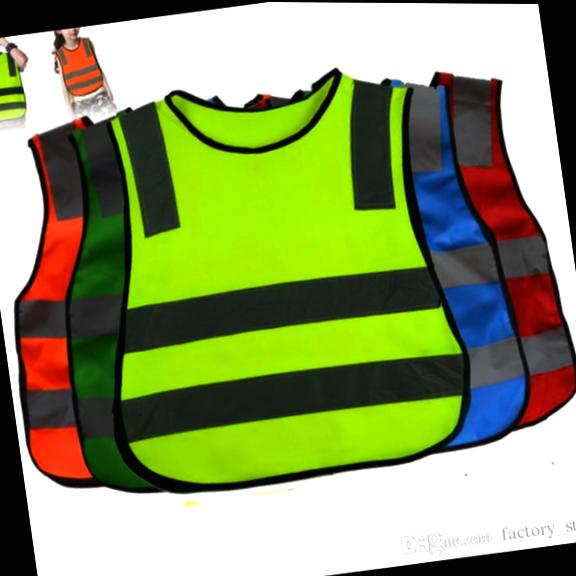safety_vest: (69, 49, 484, 501), (382, 57, 538, 455), (34, 102, 188, 500), (424, 57, 576, 435), (0, 110, 145, 505), (52, 32, 105, 99), (0, 50, 29, 126)
